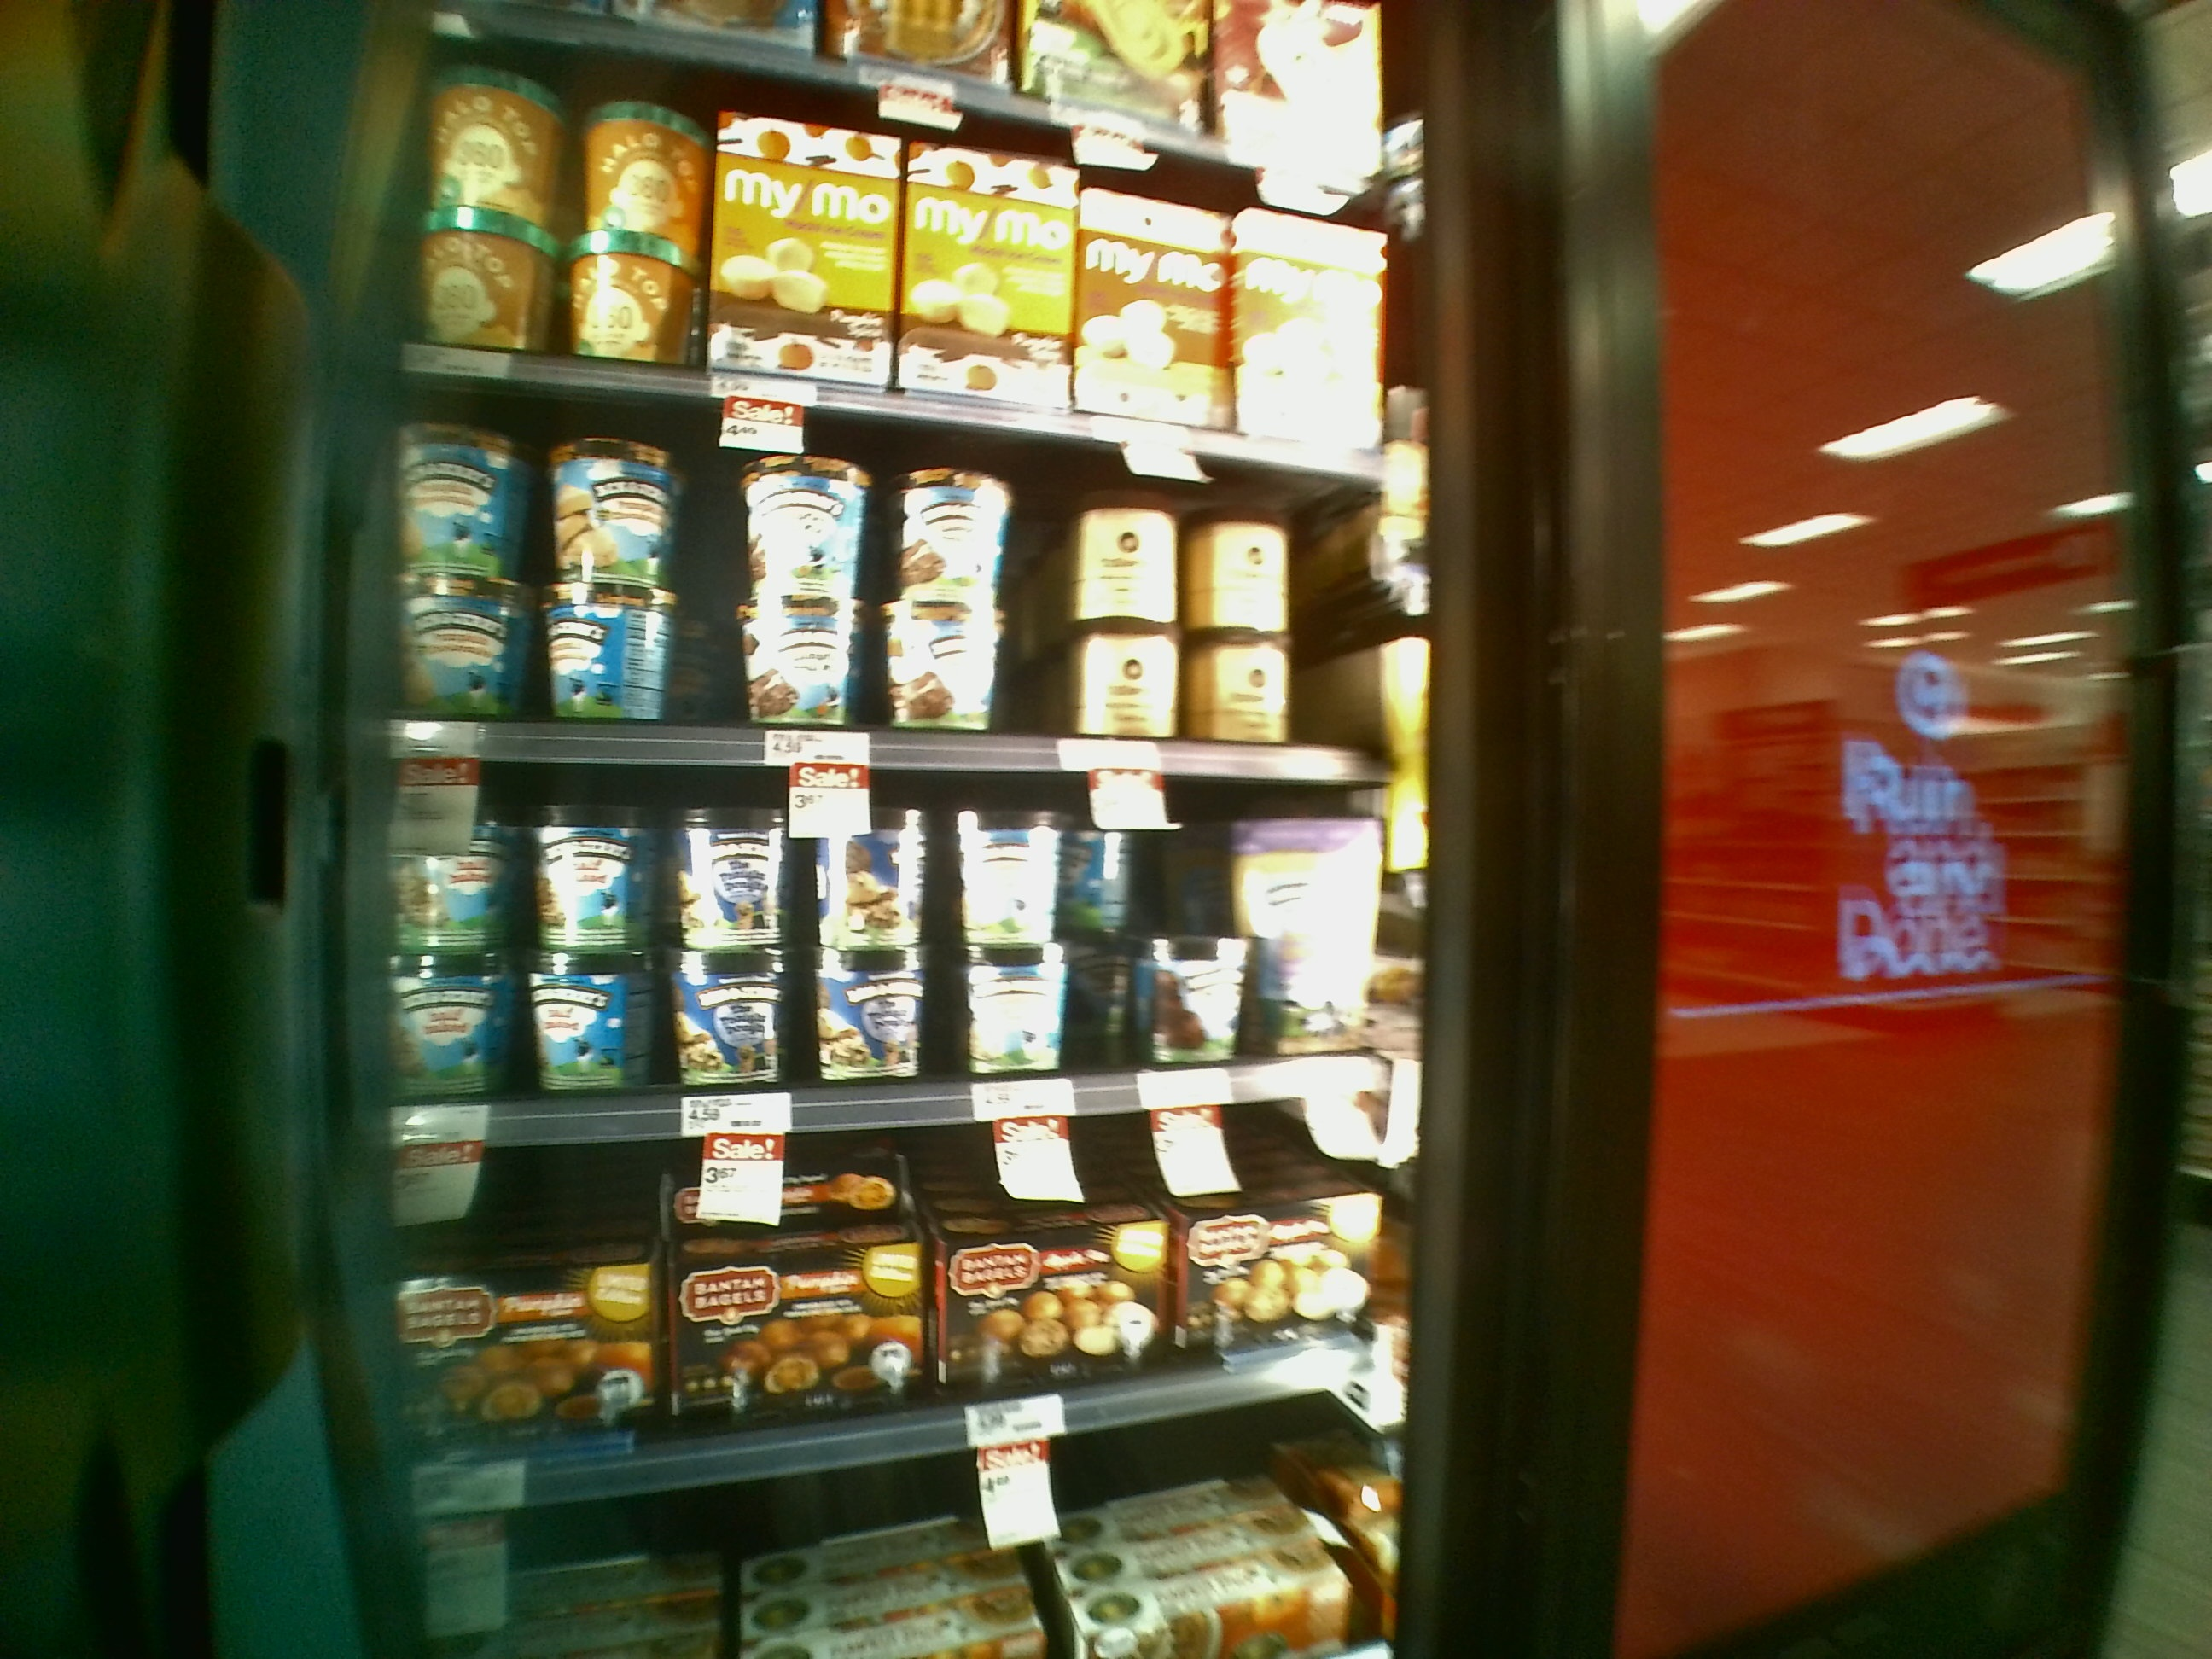shelf: (376, 364, 1407, 786), (364, 763, 1437, 1140), (345, 1129, 1426, 1459)
